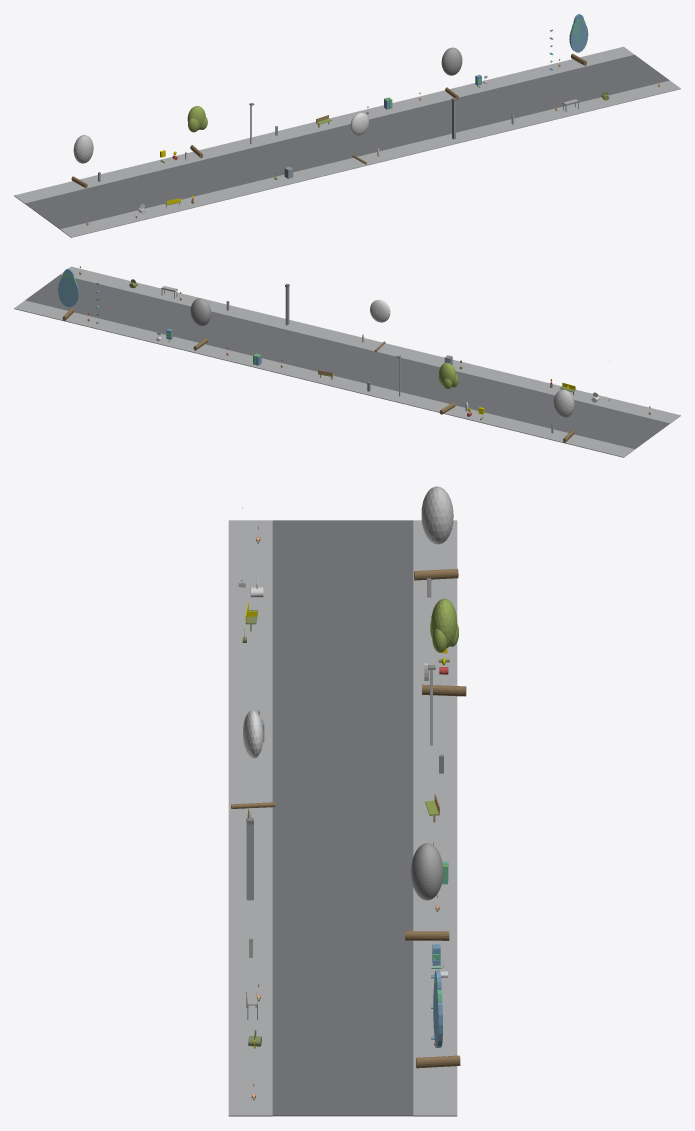
The picture shows the model from 3 angles, top to bottom: view 1: azimuth 30°, elevation 25°; view 2: azimuth 150°, elevation 25°; view 3: azimuth 270°, elevation 25°; orthographic projection. The views are drawn at different scales.
Visible parts, largest first — view 1: road_slab, sidewalk_left, sidewalk_right, inst_0016, inst_0012, inst_0015, inst_0013, inst_0014; view 2: road_slab, sidewalk_right, sidewalk_left, inst_0016, inst_0012, inst_0015, inst_0013, inst_0014; view 3: road_slab, sidewalk_left, sidewalk_right, inst_0012, inst_0015, inst_0013, inst_0016, inst_0014.
Boxes of the visible parts, bbox=[...] form: road_slab: bbox=[25, 54, 669, 229]; sidewalk_left: bbox=[60, 80, 680, 237]; sidewalk_right: bbox=[14, 46, 634, 203]; inst_0016: bbox=[569, 14, 588, 65]; inst_0012: bbox=[71, 135, 93, 188]; inst_0015: bbox=[441, 47, 462, 99]; inst_0013: bbox=[187, 106, 207, 158]; inst_0014: bbox=[350, 112, 368, 164]; road_slab: bbox=[25, 274, 669, 449]; sidewalk_right: bbox=[14, 300, 634, 457]; sidewalk_left: bbox=[60, 266, 680, 423]; inst_0016: bbox=[58, 268, 78, 321]; inst_0012: bbox=[553, 389, 574, 442]; inst_0015: bbox=[190, 298, 210, 350]; inst_0013: bbox=[438, 362, 458, 414]; inst_0014: bbox=[370, 300, 390, 351]; road_slab: bbox=[272, 520, 413, 1116]; sidewalk_left: bbox=[228, 520, 272, 1116]; sidewalk_right: bbox=[413, 520, 457, 1116]; inst_0012: bbox=[414, 486, 458, 580]; inst_0015: bbox=[405, 843, 449, 940]; inst_0013: bbox=[422, 598, 466, 696]; inst_0016: bbox=[416, 970, 460, 1068]; inst_0014: bbox=[231, 710, 275, 808].
Bounding box in the file's own units: 80 × 6.08 × 13.51.
